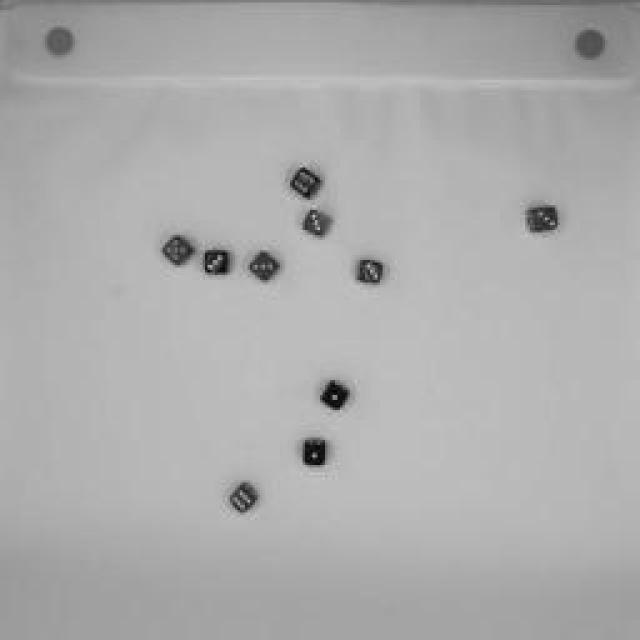dice_1: (316, 378, 352, 412), (298, 435, 328, 470)
dice_3: (245, 250, 280, 285), (300, 205, 335, 240), (352, 256, 388, 289), (522, 205, 558, 237), (200, 248, 230, 280)
dice_5: (159, 230, 196, 270)
dice_6: (285, 165, 325, 203), (225, 480, 260, 518)
